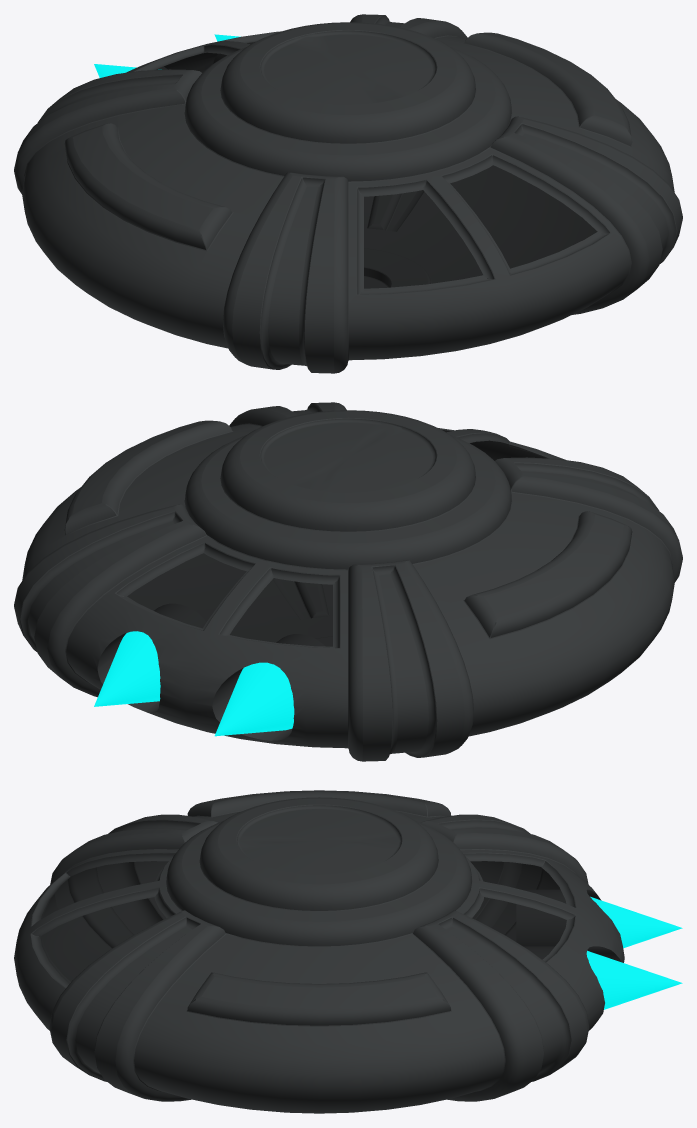
File: ufo3.fbx
3 views of the same model, one above another, from view 1: azimuth 30°, elevation 25°; view 2: azimuth 150°, elevation 25°; view 3: azimuth 270°, elevation 25° (orthographic). The views are drawn at different scales.
Visible parts, largest first — view 1: UFO; view 2: UFO, Light, Cylinder; view 3: UFO, Light, Cylinder.
Boxes of the visible parts, box(x1,y1,x2,y2) form: UFO: box(14, 14, 682, 373); UFO: box(14, 402, 682, 761); Light: box(94, 631, 294, 736); Cylinder: box(97, 603, 324, 740); UFO: box(14, 790, 624, 1113); Light: box(586, 896, 682, 1009); Cylinder: box(516, 889, 620, 961).
Size of the model in its own units: 200 by 76.64 by 219.
